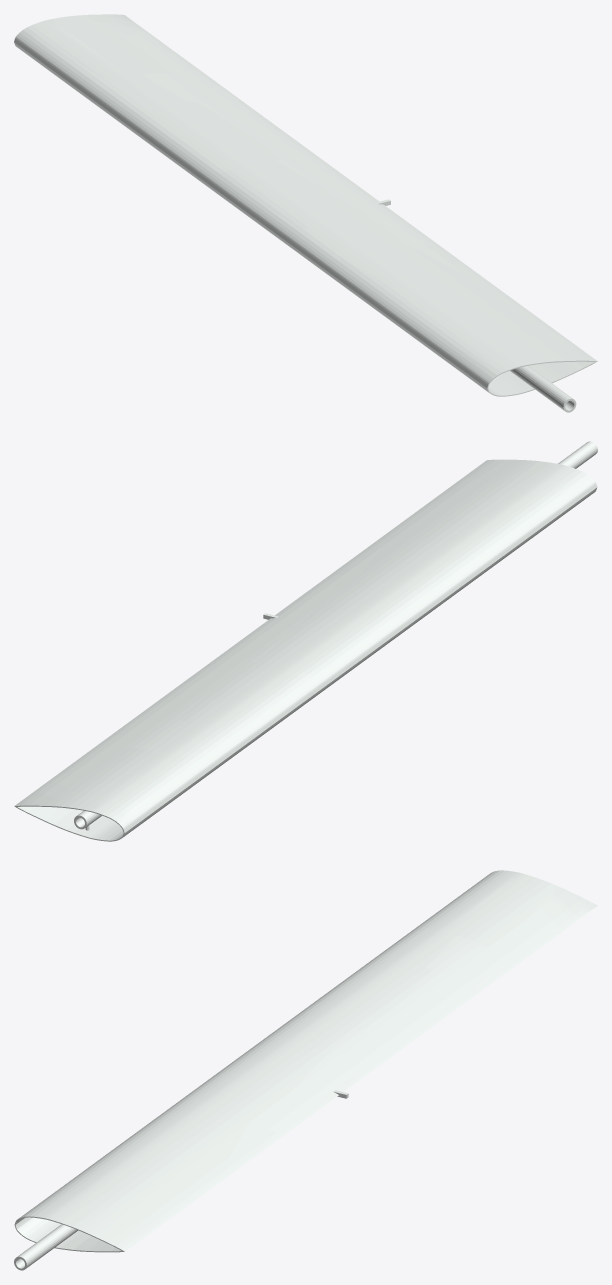
File: wing.dae
The picture shows the model from 3 angles, top to bottom: view 1: azimuth 30°, elevation 25°; view 2: azimuth 150°, elevation 25°; view 3: azimuth 330°, elevation 25°; orthographic projection.
Parts seen in each view (by area): view 1: wing; view 2: wing; view 3: wing.
Boxes of the visible parts, <box> form: wing: <box>14,14,597,412</box>; wing: <box>14,441,597,841</box>; wing: <box>14,870,597,1270</box>.
Size of the model in its own units: 0.8128 by 6.1 by 0.183.
1 material, 1 textured.
